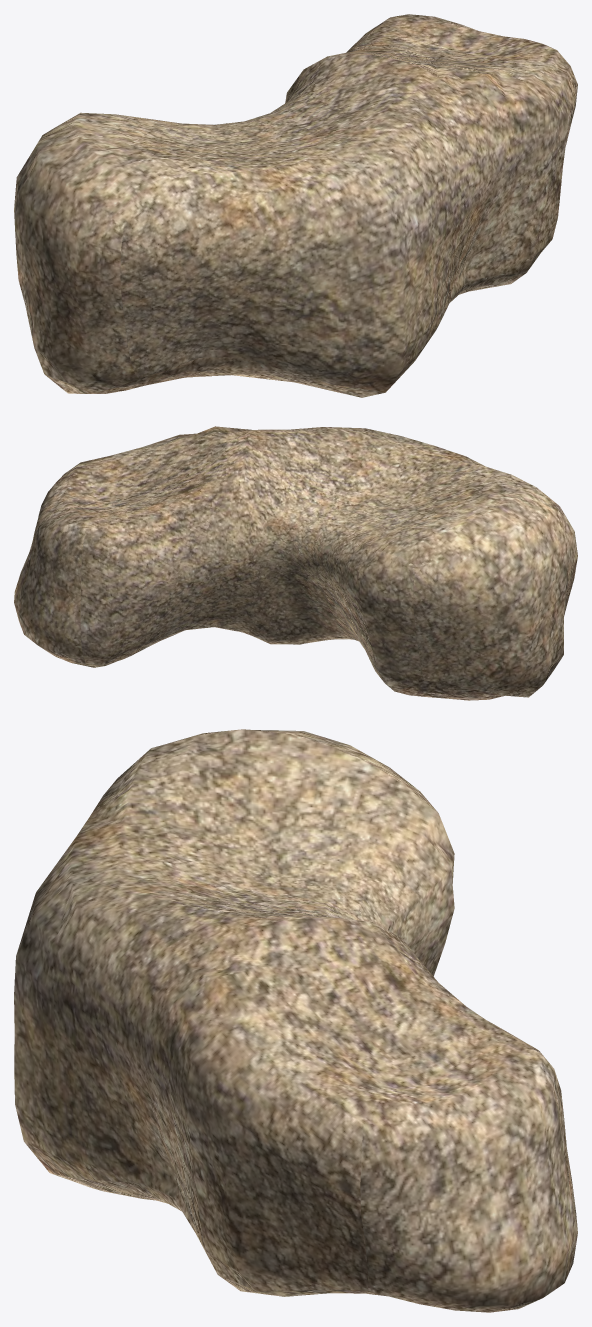
File: Stone02_v01.glb
The picture shows the model from 3 angles, top to bottom: view 1: azimuth 30°, elevation 25°; view 2: azimuth 150°, elevation 25°; view 3: azimuth 270°, elevation 25°; orthographic projection. The views are drawn at different scales.
Visible parts, largest first — view 1: SM_Stone02; view 2: SM_Stone02; view 3: SM_Stone02.
Boxes of the visible parts, x1=… form: SM_Stone02: x1=14, y1=14, x2=577, y2=397; SM_Stone02: x1=14, y1=426, x2=577, y2=700; SM_Stone02: x1=14, y1=729, x2=577, y2=1312.
Bounding box in the file's own units: 1.81 × 0.7678 × 1.18.
Materials: 1 (1 with a texture image).
